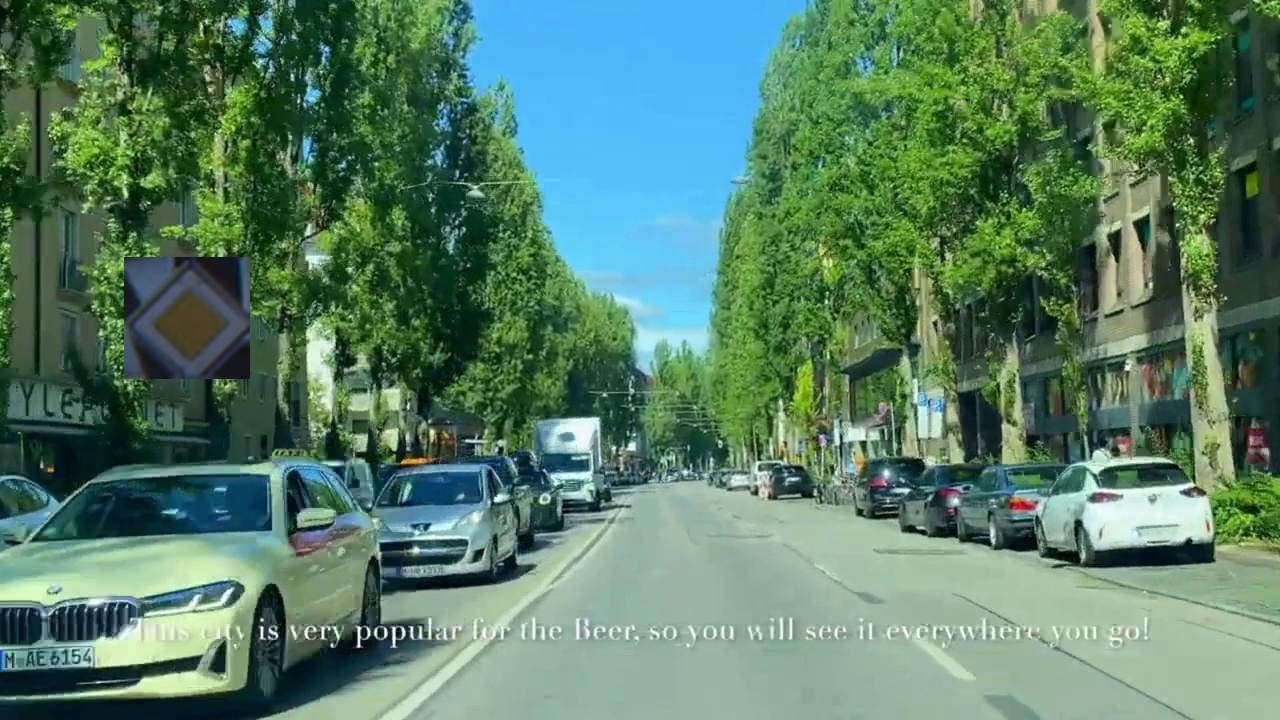Priority road: (124, 257, 250, 379)
